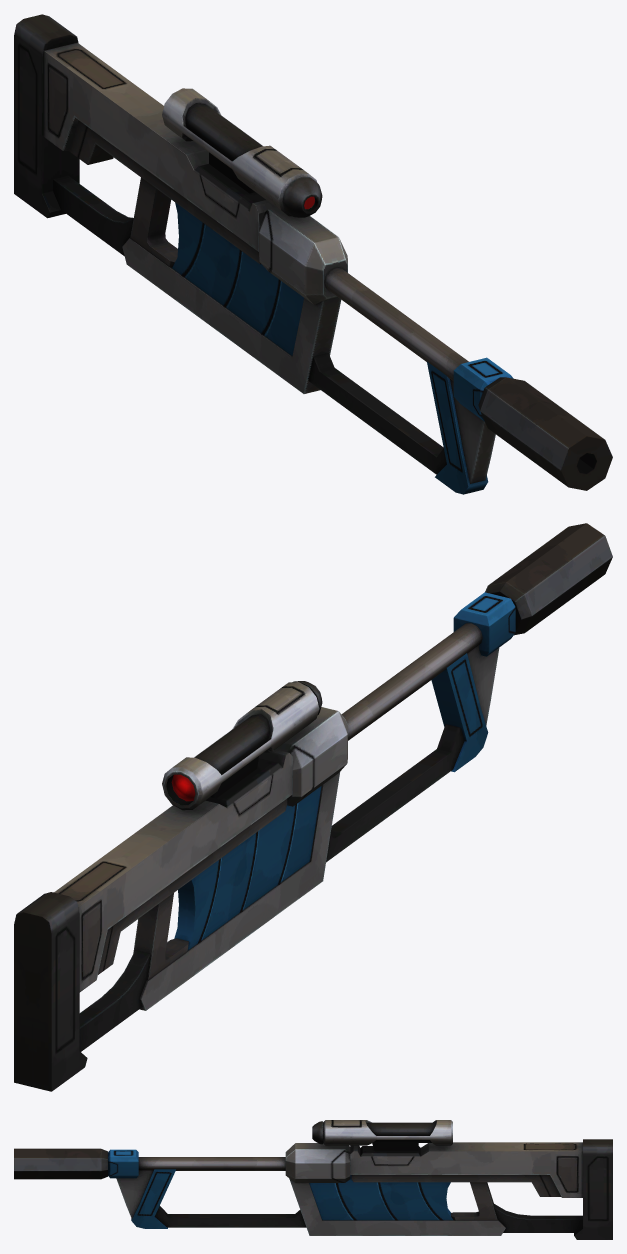
The model's file is Sniper_TRUE_FBX.fbx.
3 views of the same model, one above another, from view 1: azimuth 30°, elevation 25°; view 2: azimuth 150°, elevation 25°; view 3: azimuth 270°, elevation 25° (orthographic). The views are drawn at different scales.
Visible parts, largest first — view 1: Sniper; view 2: Sniper; view 3: Sniper.
Boxes of the visible parts, bbox=[...] form: Sniper: bbox=[14, 14, 612, 494]; Sniper: bbox=[14, 523, 612, 1091]; Sniper: bbox=[14, 1120, 612, 1239].
Size of the model in its own units: 0.1111 by 2.04 by 0.4279.
